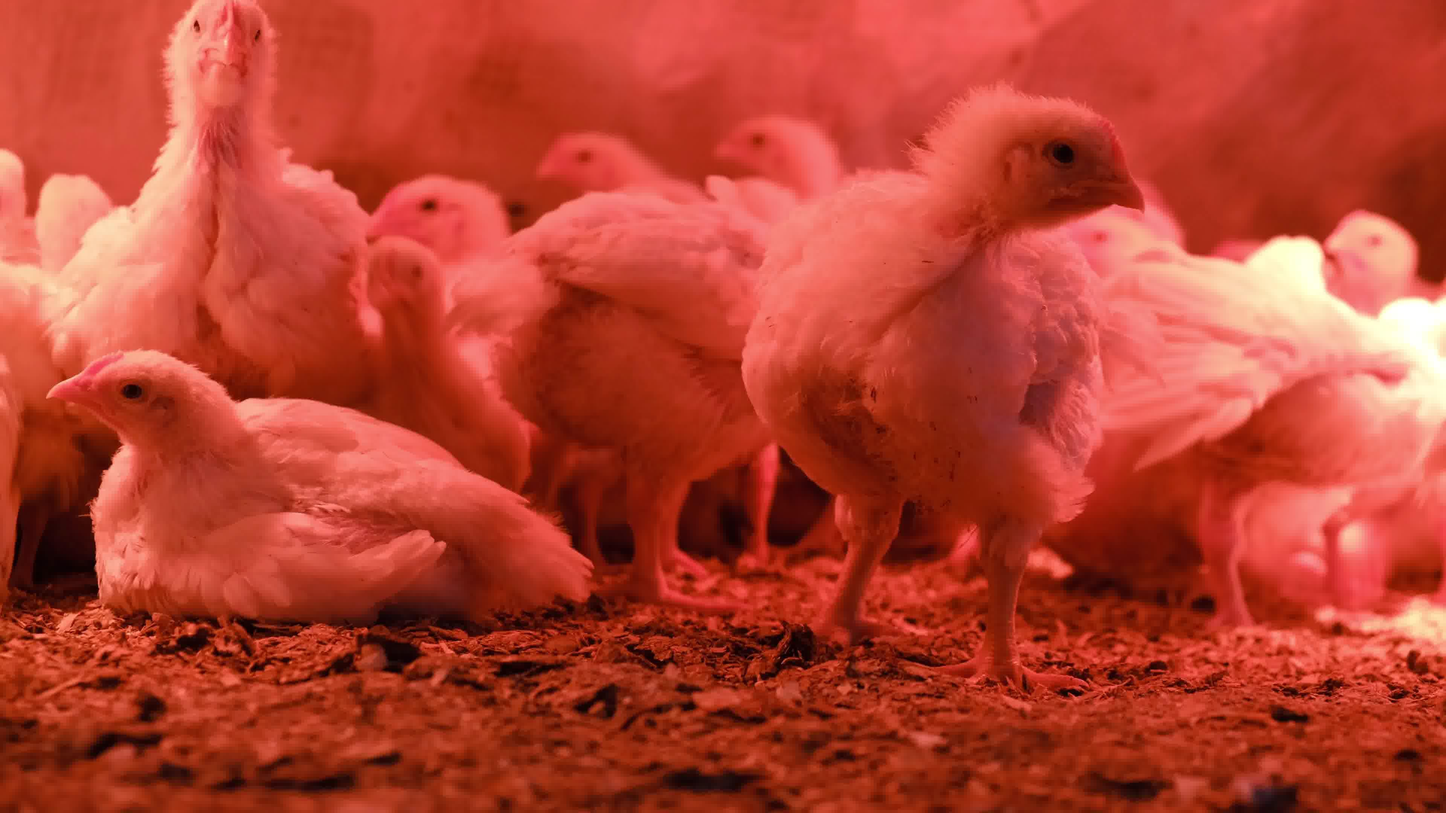AbNormal: (28, 359, 593, 634)
Normal: (746, 88, 1196, 696), (523, 122, 821, 627), (1120, 284, 1446, 642), (104, 0, 388, 358), (350, 231, 516, 448), (375, 160, 527, 273), (1324, 198, 1446, 305)
